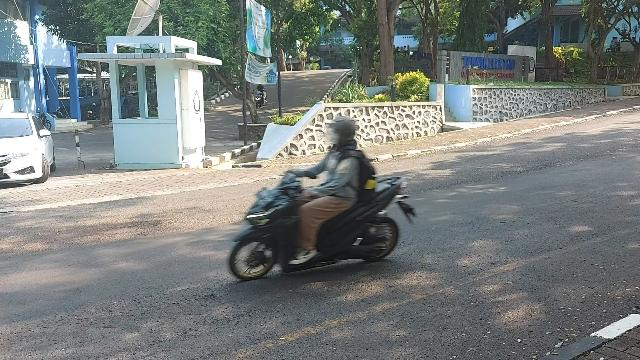helm: (328, 119, 357, 147)
motor: (229, 171, 418, 282)
